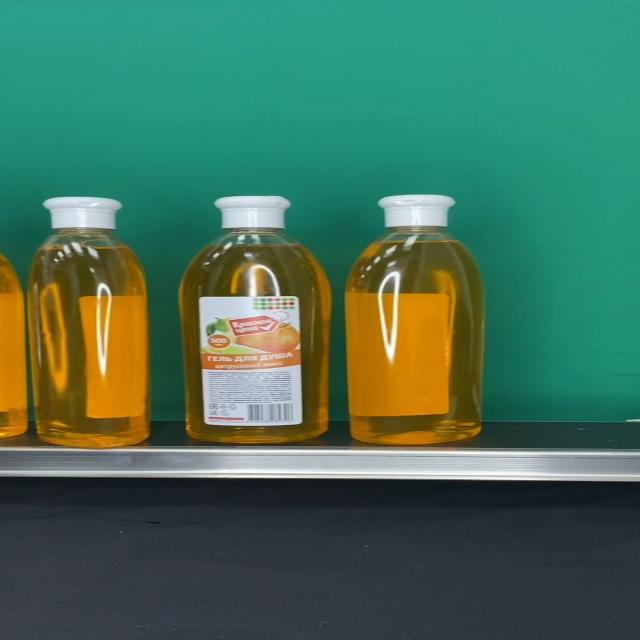Bottle: (178, 195, 332, 443), (345, 194, 484, 444), (28, 196, 150, 448)
Cap: (376, 193, 455, 227), (43, 197, 124, 230), (214, 196, 294, 228)
